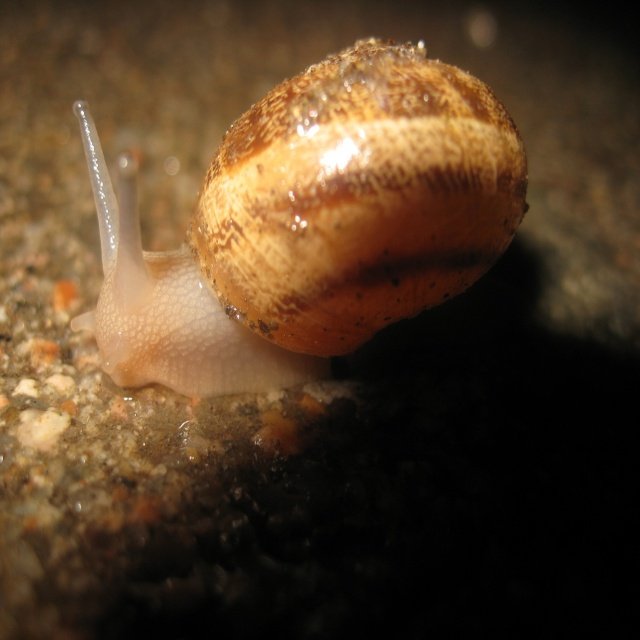Snail: (68, 29, 536, 399)
